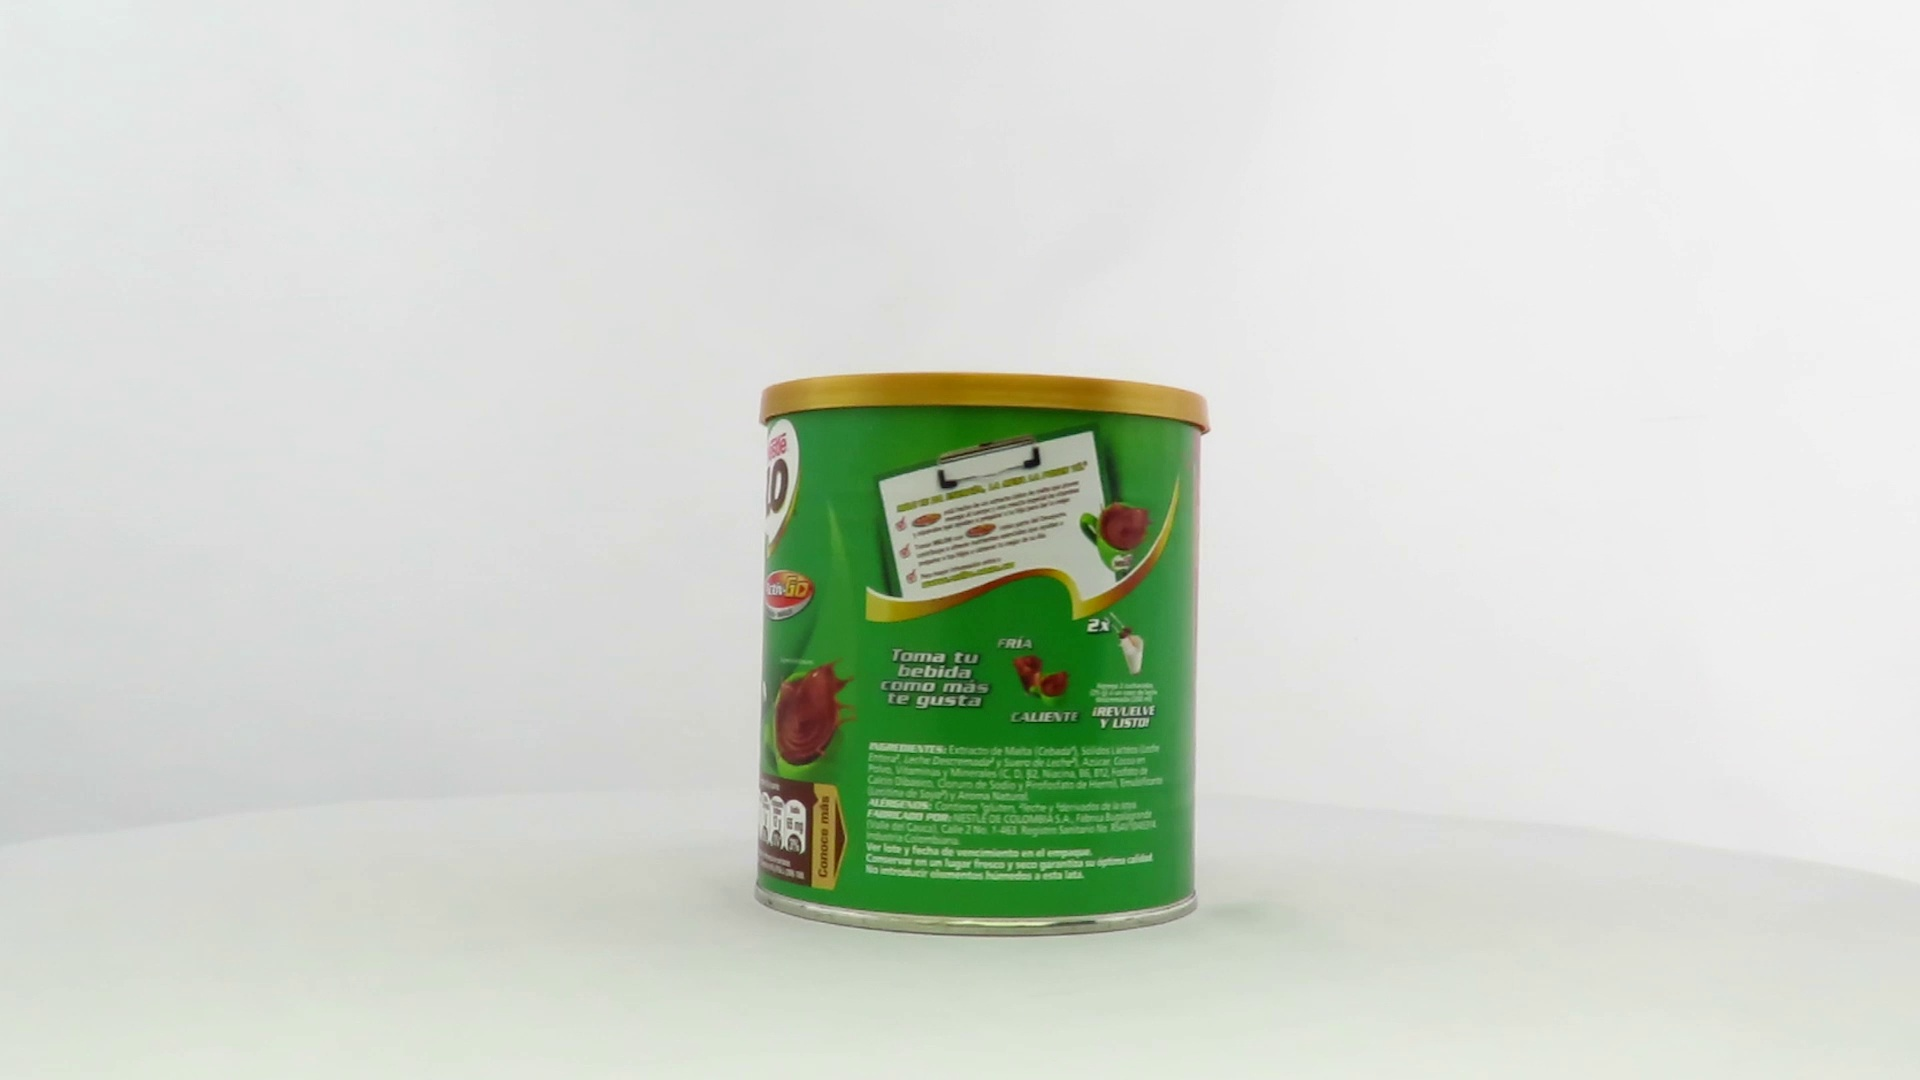COL0170203LAT40000: (749, 367, 1216, 944)
